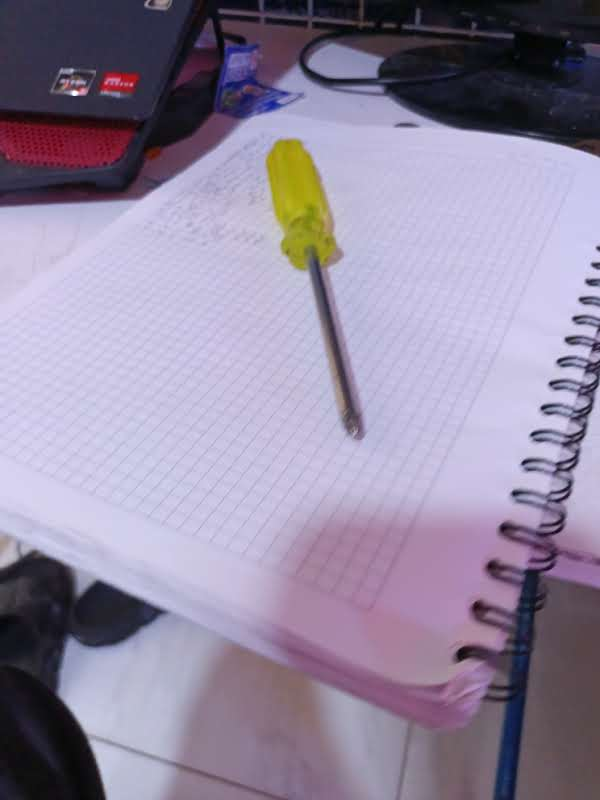Destornillador: (267, 140, 363, 438)
